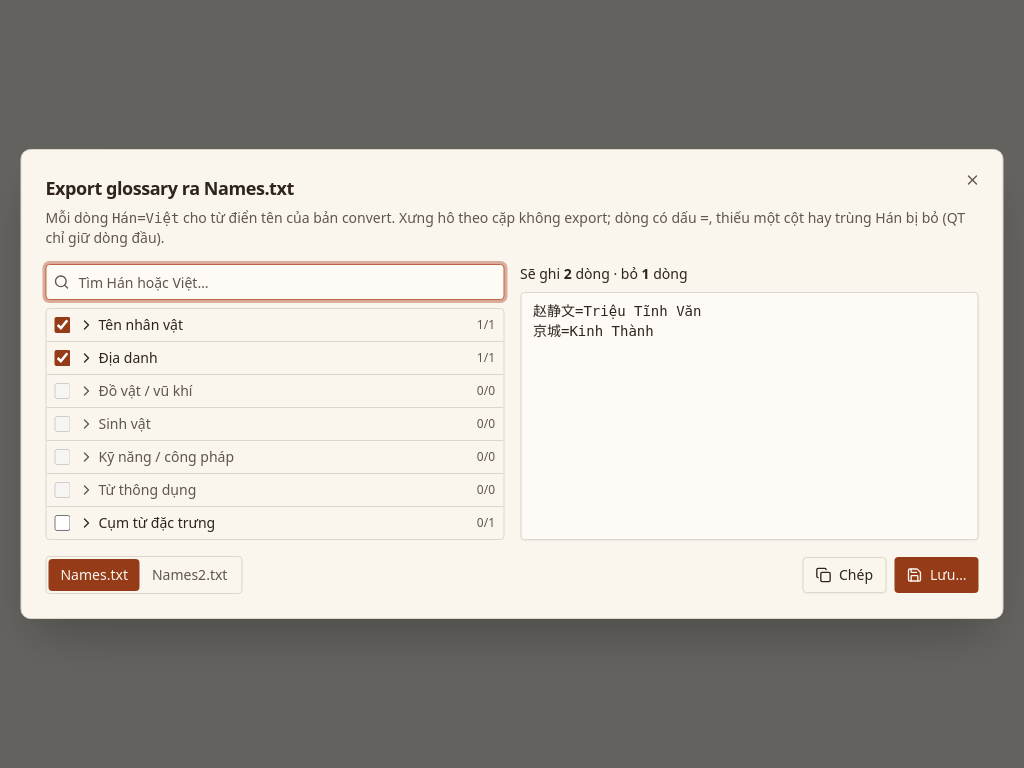
Test: GlossaryExportDialog › tick nhóm và tick dòng đổi xem trước; bỏ hết thì khoá nút
Click the checkbox named "Cụm từ đặc trưng": (62, 523) [54,515,70,531]
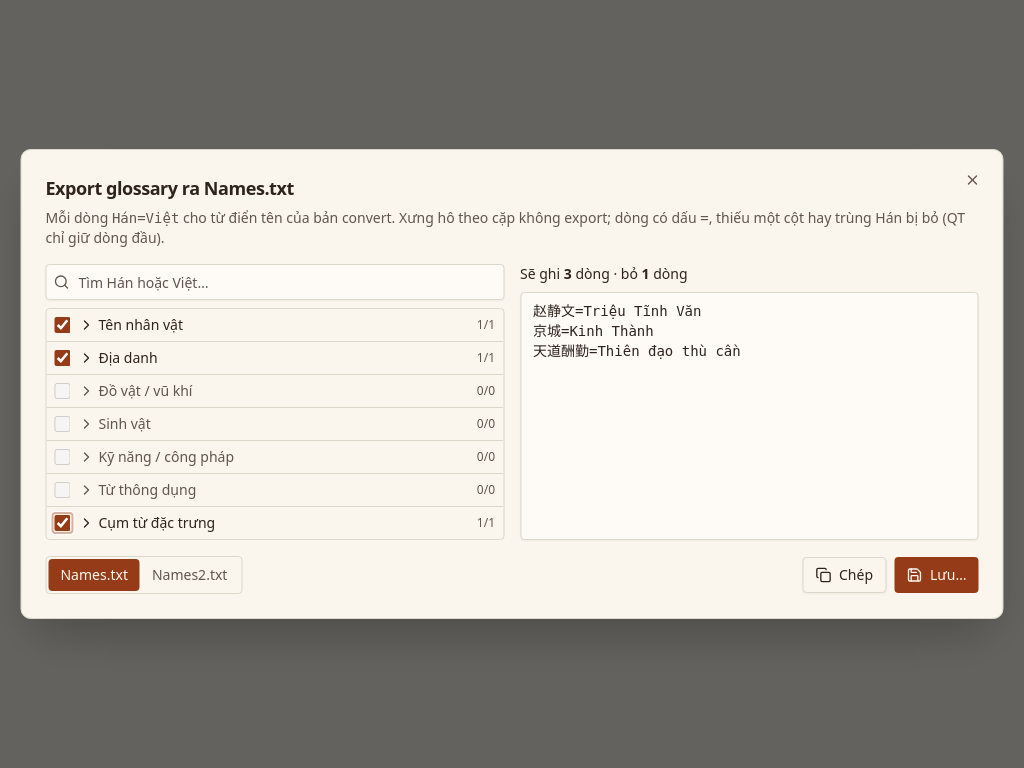
Click the button "Tên nhân vật": (141, 324) [78,315,469,335]
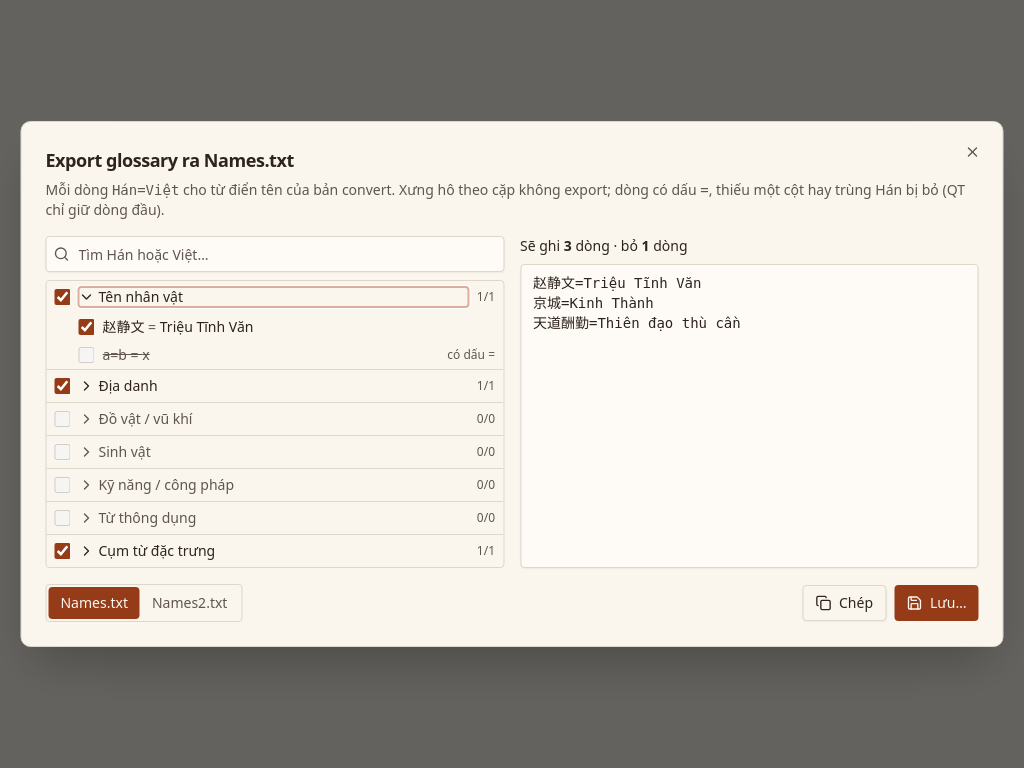
Click the checkbox labelled "赵静文 = Triệu Tĩnh Văn": (86, 327) [78,319,94,335]
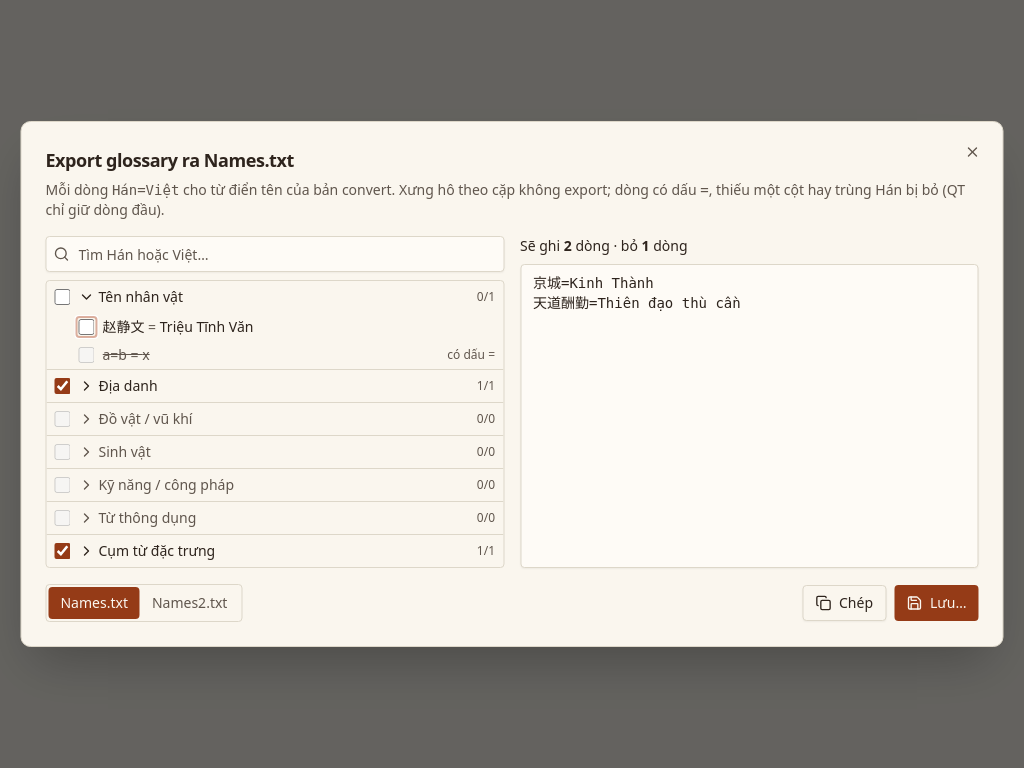
Result: the checkbox named "Tên nhân vật" is not checked at [54,289,70,305]
Click the checkbox named "Địa danh": (62, 386) [54,378,70,394]
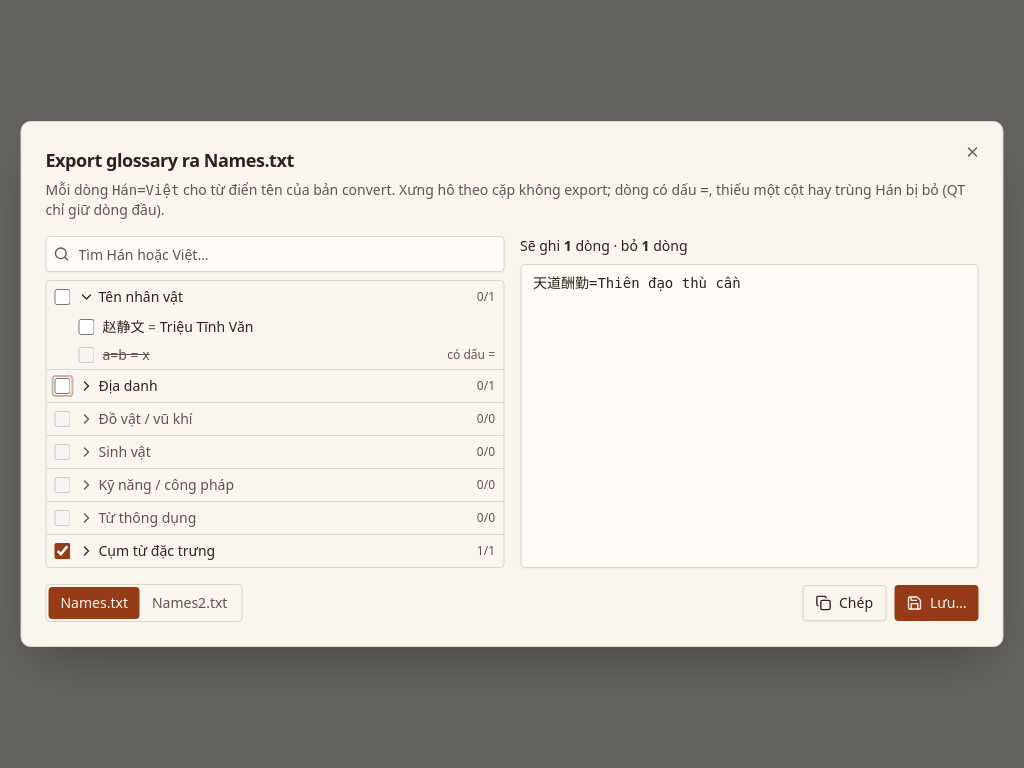
Click the checkbox named "Cụm từ đặc trưng": (62, 551) [54,543,70,559]
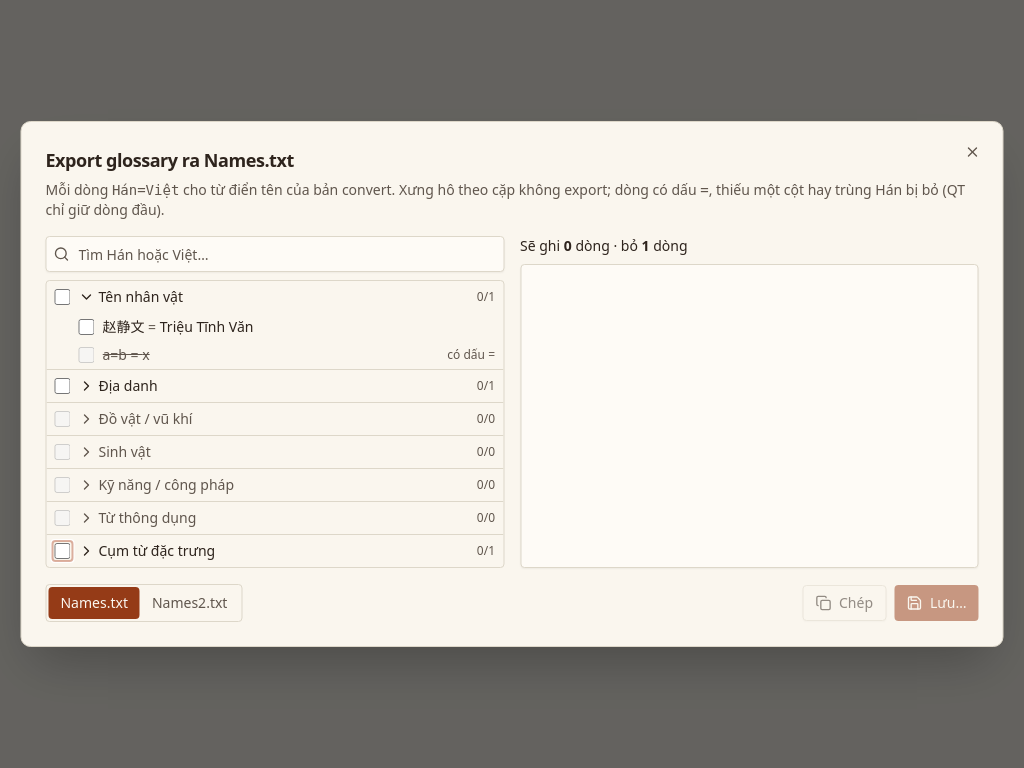
Result: the text box named "Xem trước" is empty at [520,264,978,568]
Result: the button "Chép" is disabled at [802,585,886,621]
Result: the button "Lưu…" is disabled at [894,585,978,621]
